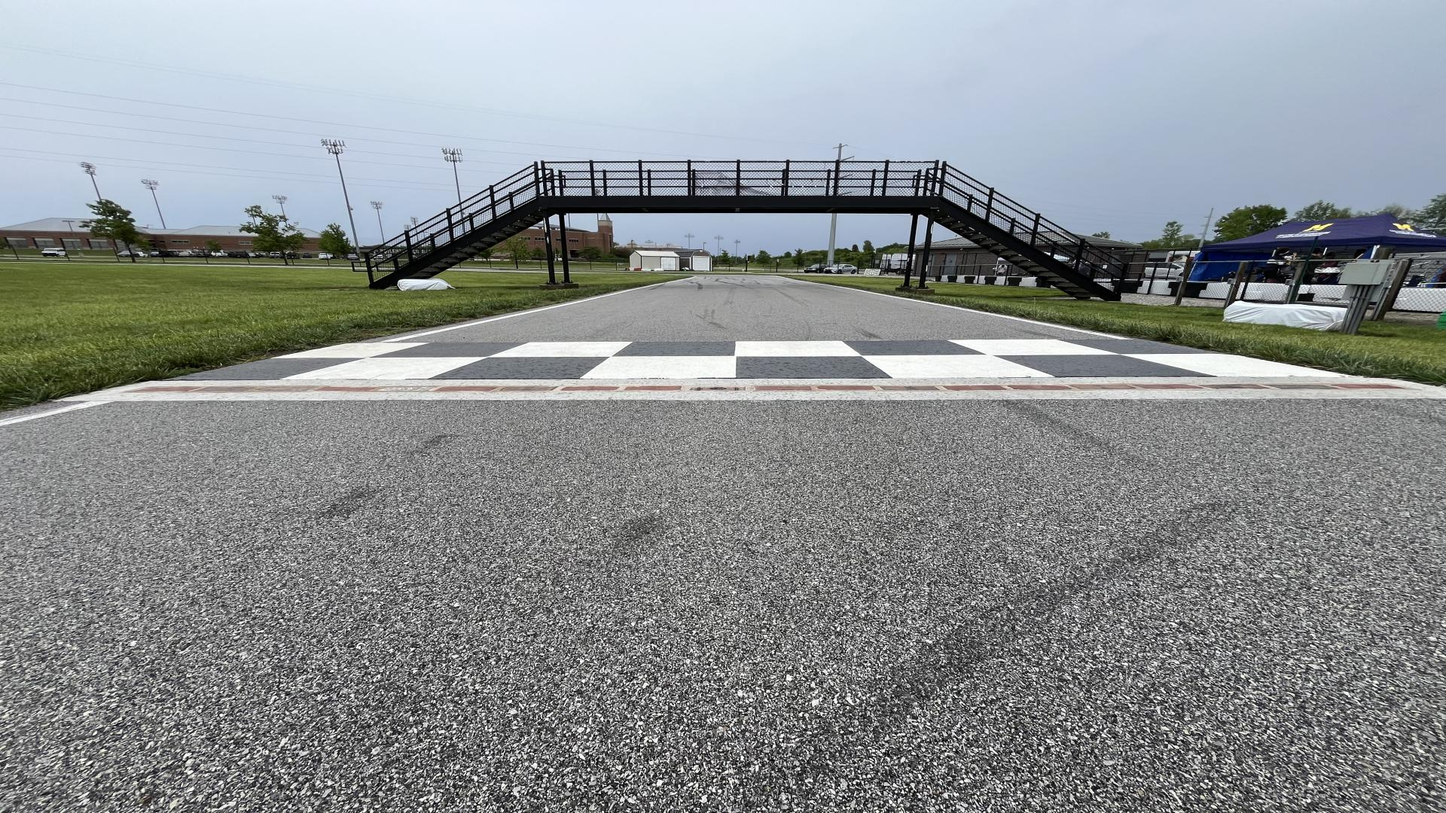white-line: (731, 276, 1135, 340), (381, 278, 692, 343), (0, 401, 113, 427)
